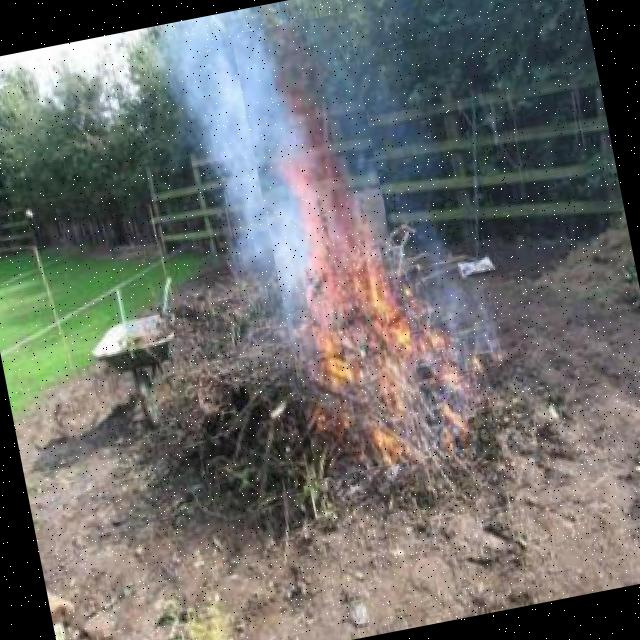fire: (231, 12, 433, 480)
